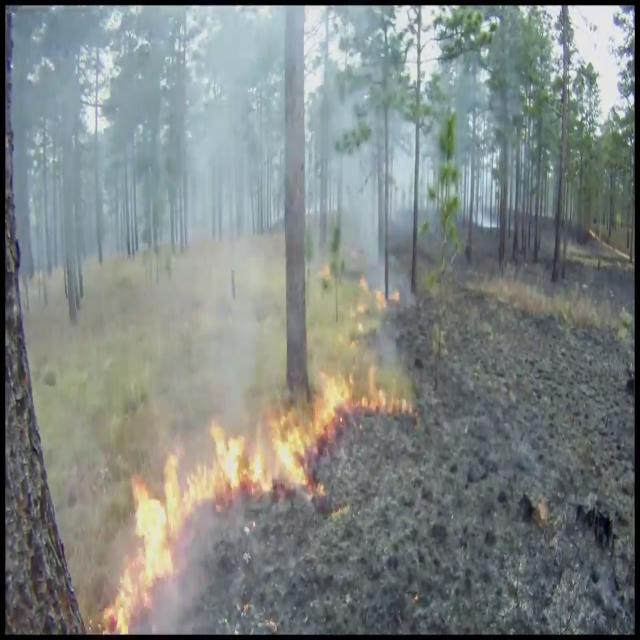Fire: (96, 461, 192, 634), (180, 400, 324, 510), (323, 369, 393, 427)
Smoke: (30, 0, 438, 331)
